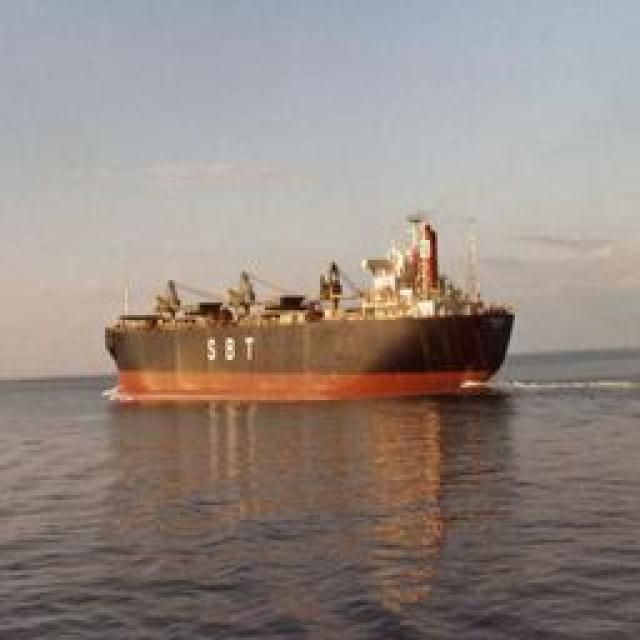ship2: (102, 217, 517, 404)
